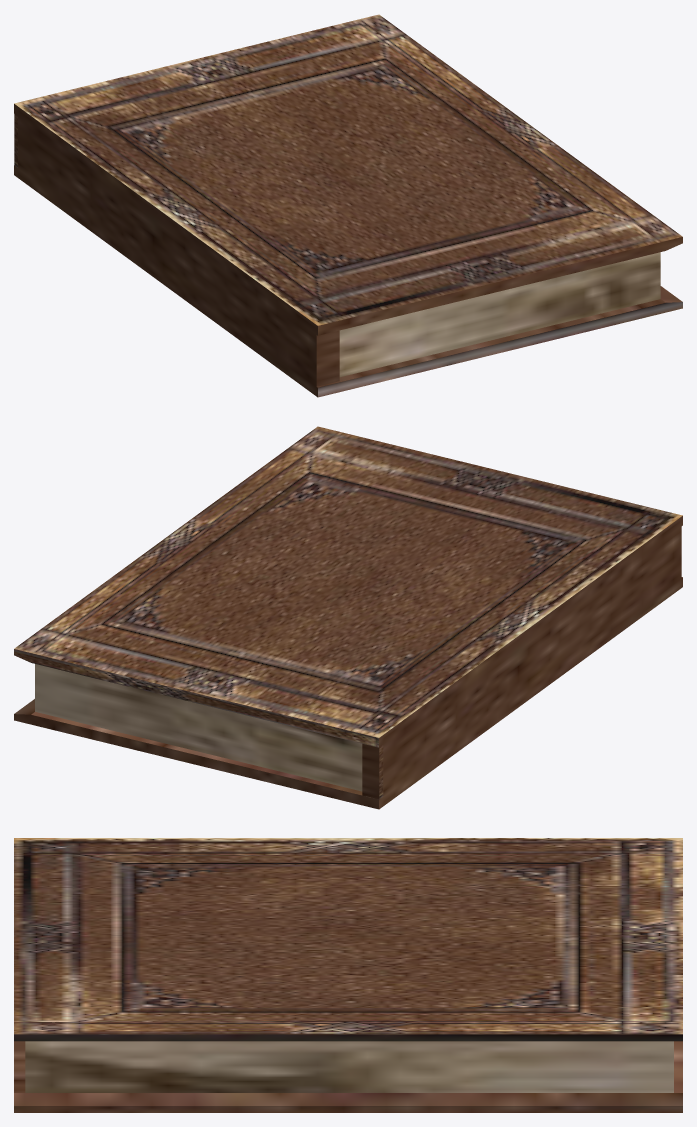
File: book3.fbx
The picture shows the model from 3 angles, top to bottom: view 1: azimuth 30°, elevation 25°; view 2: azimuth 150°, elevation 25°; view 3: azimuth 270°, elevation 25°; orthographic projection. The views are drawn at different scales.
Parts seen in each view (by area): view 1: Cube.089; view 2: Cube.089; view 3: Cube.089.
Boxes of the visible parts, bbox=[...] form: Cube.089: bbox=[14, 14, 682, 397]; Cube.089: bbox=[14, 426, 682, 809]; Cube.089: bbox=[14, 838, 682, 1112].
Size of the model in its own units: 60.79 by 11.39 by 87.62.
